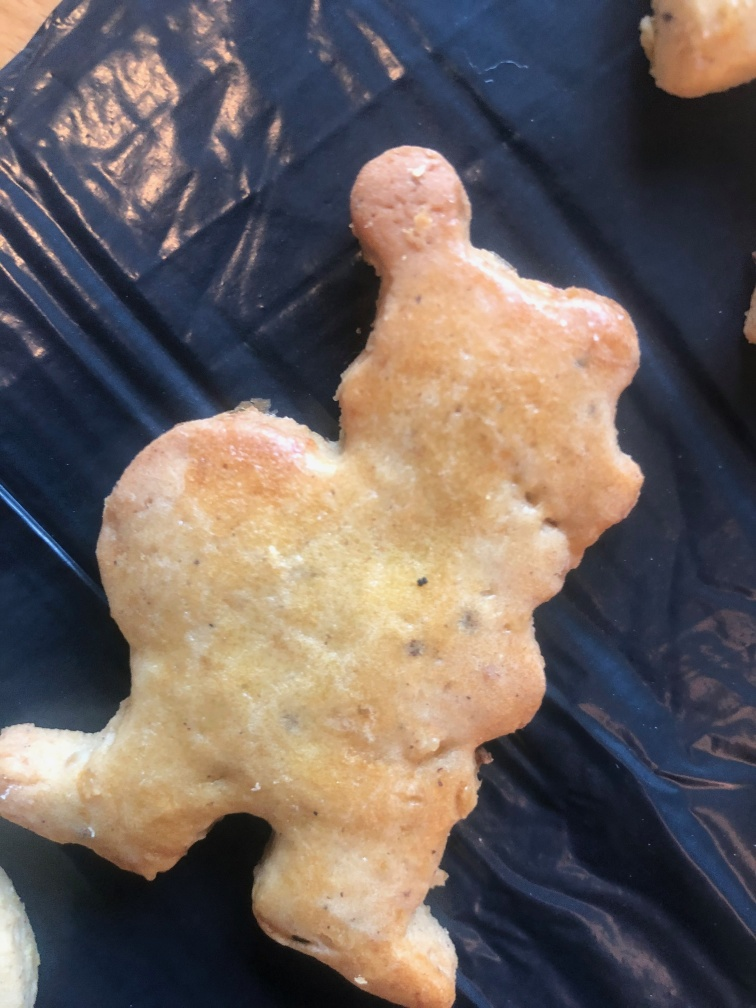santa claus: (1, 140, 648, 1007)
